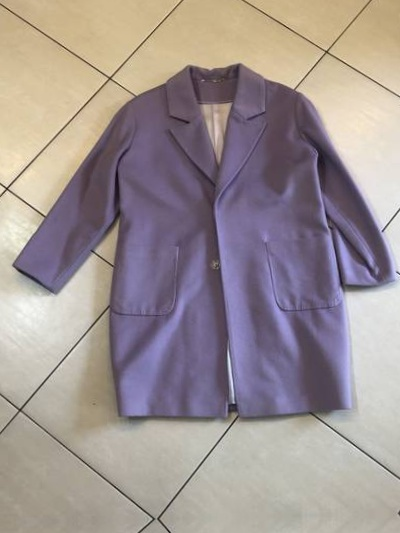Blazer: (10, 38, 400, 439)
